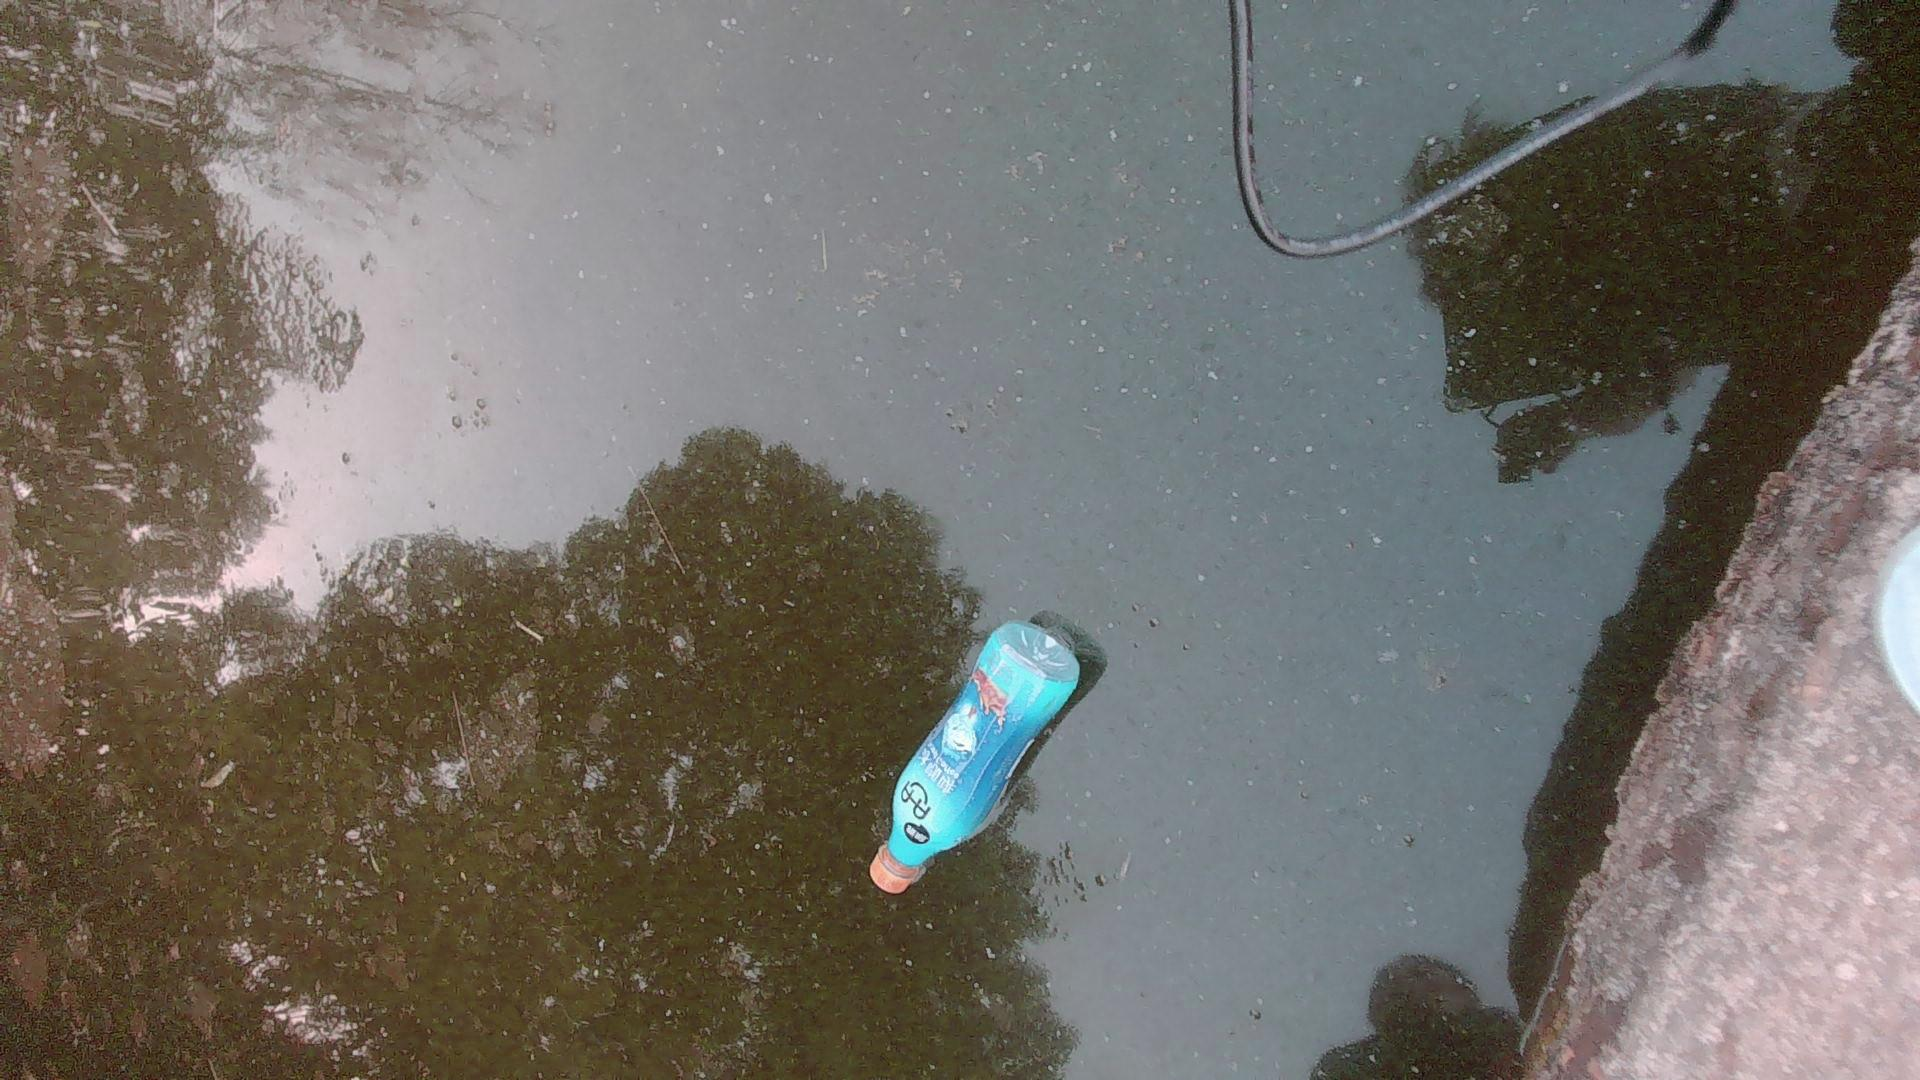Plastic: (862, 618, 1085, 899)
